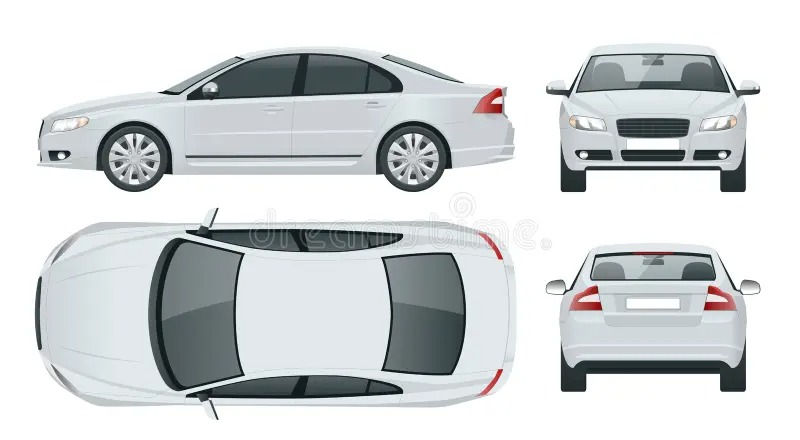car: (59, 44, 516, 201), (553, 244, 756, 386), (552, 42, 757, 182)
